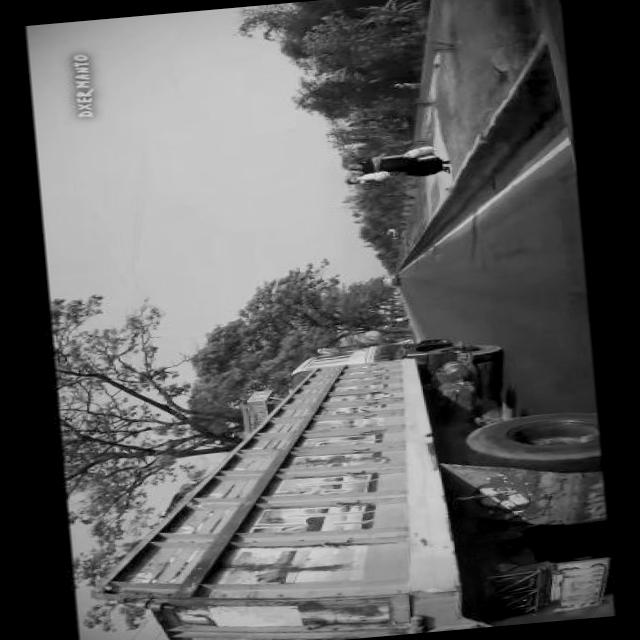bus: (377, 277, 398, 288)
truck: (65, 323, 615, 640)
